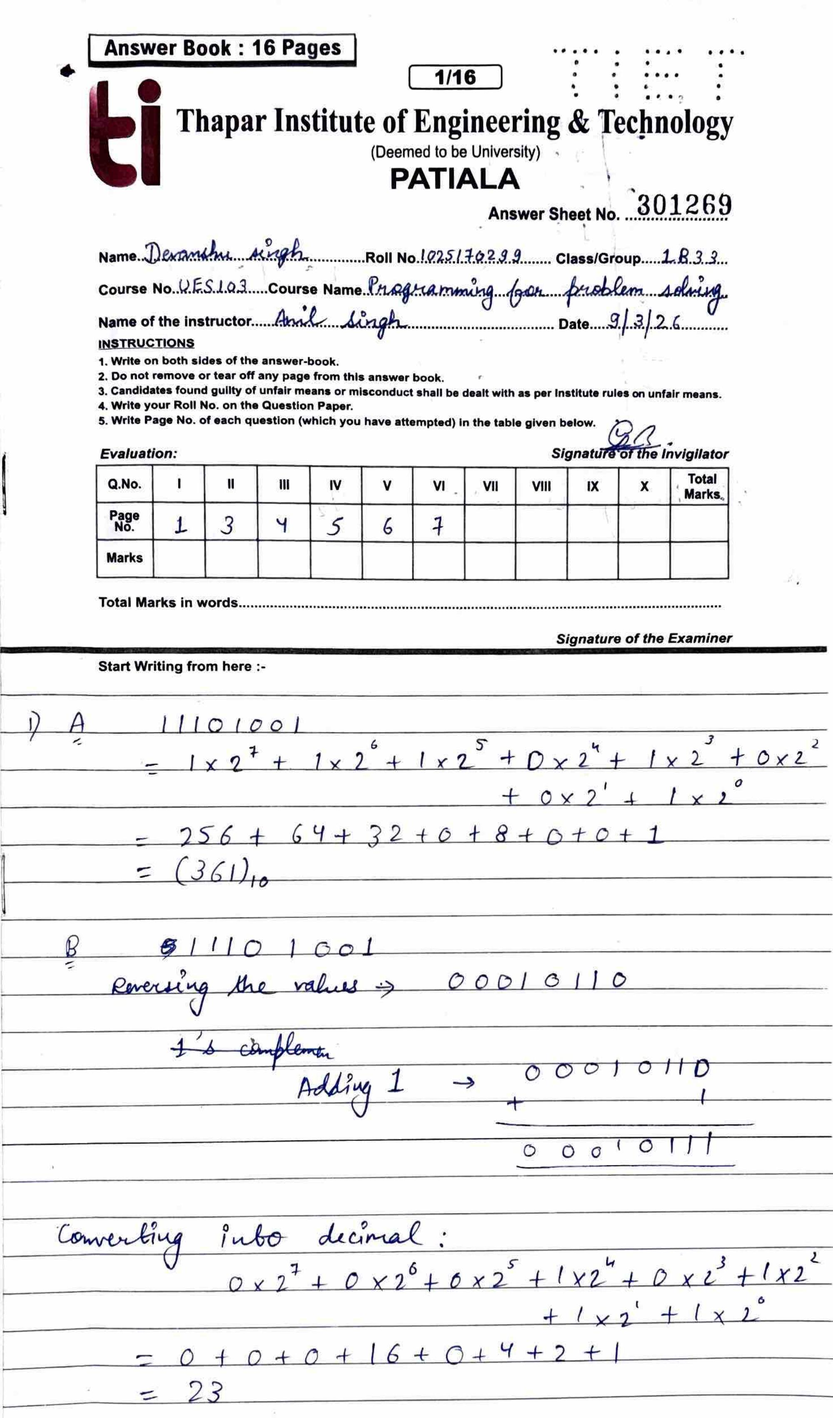cuttings: (169, 1030, 336, 1072), (159, 937, 179, 961)
